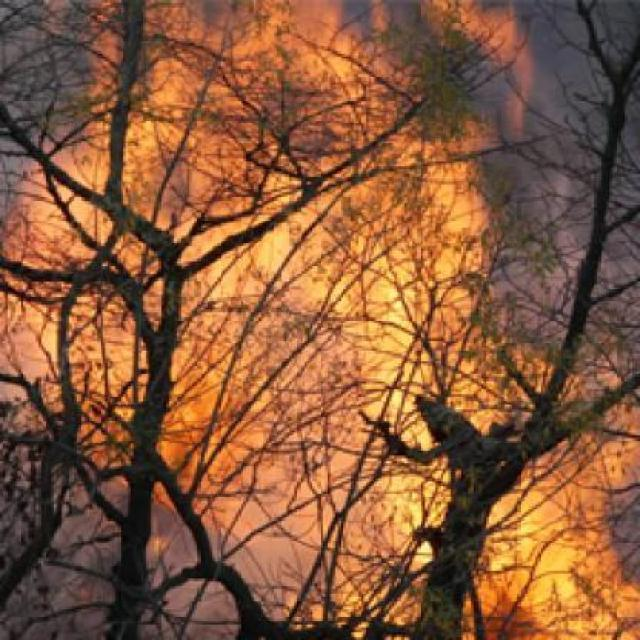Fire: (57, 0, 639, 640)
